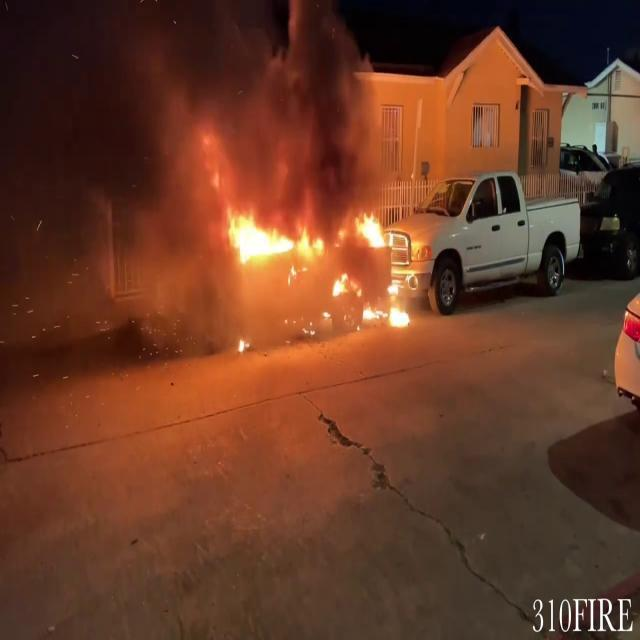Fire: (223, 199, 418, 324), (222, 204, 298, 272)
Smoke: (1, 0, 386, 206), (128, 0, 384, 203)
